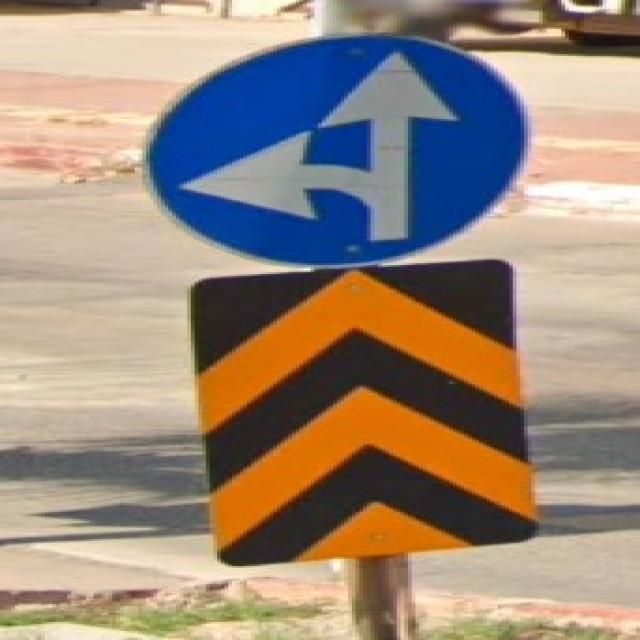Straight or Left: (149, 33, 527, 266)
